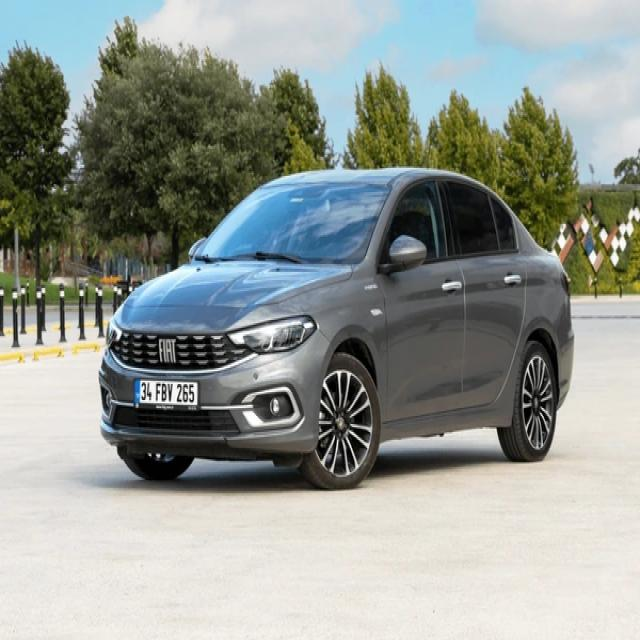fiat: (156, 336, 181, 370)
